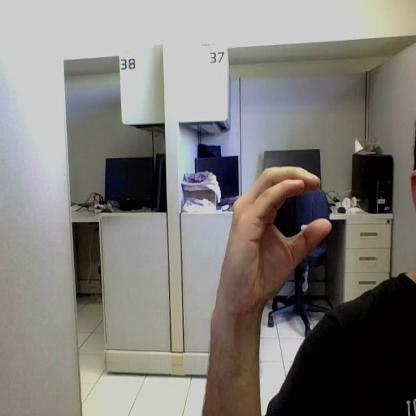C: (224, 166, 330, 292)
